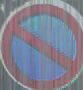No waiting: (3, 2, 80, 85)
